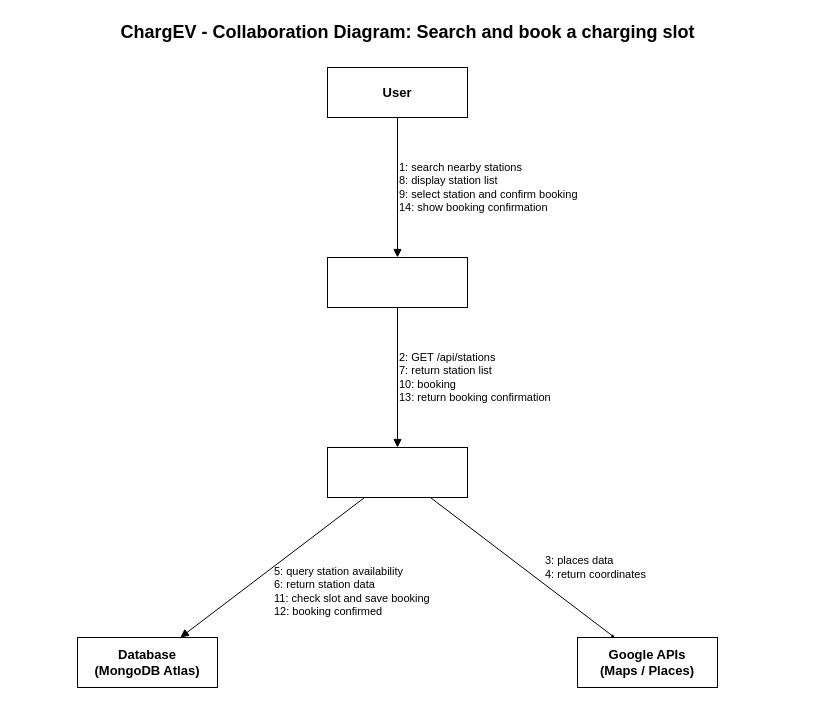
Image size: 814x705. Some labels were removed from this diagram. Each missing label, with the centre of its shape:
"Backend (Node.js / Express)" goes at pixel 397 472.
"Frontend (Web App)" goes at pixel 397 282.
